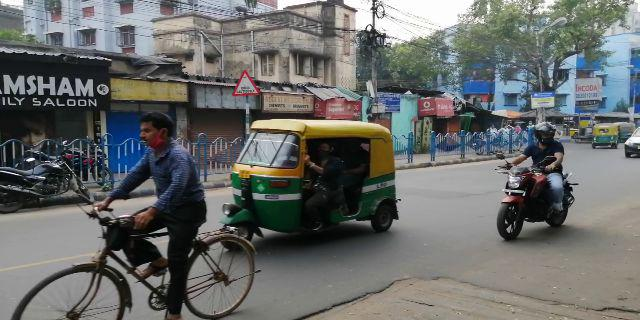Autorickshaw: (221, 122, 410, 225), (591, 121, 621, 147)
Cycle: (1, 114, 261, 319)
Motorbike: (489, 124, 576, 243)
